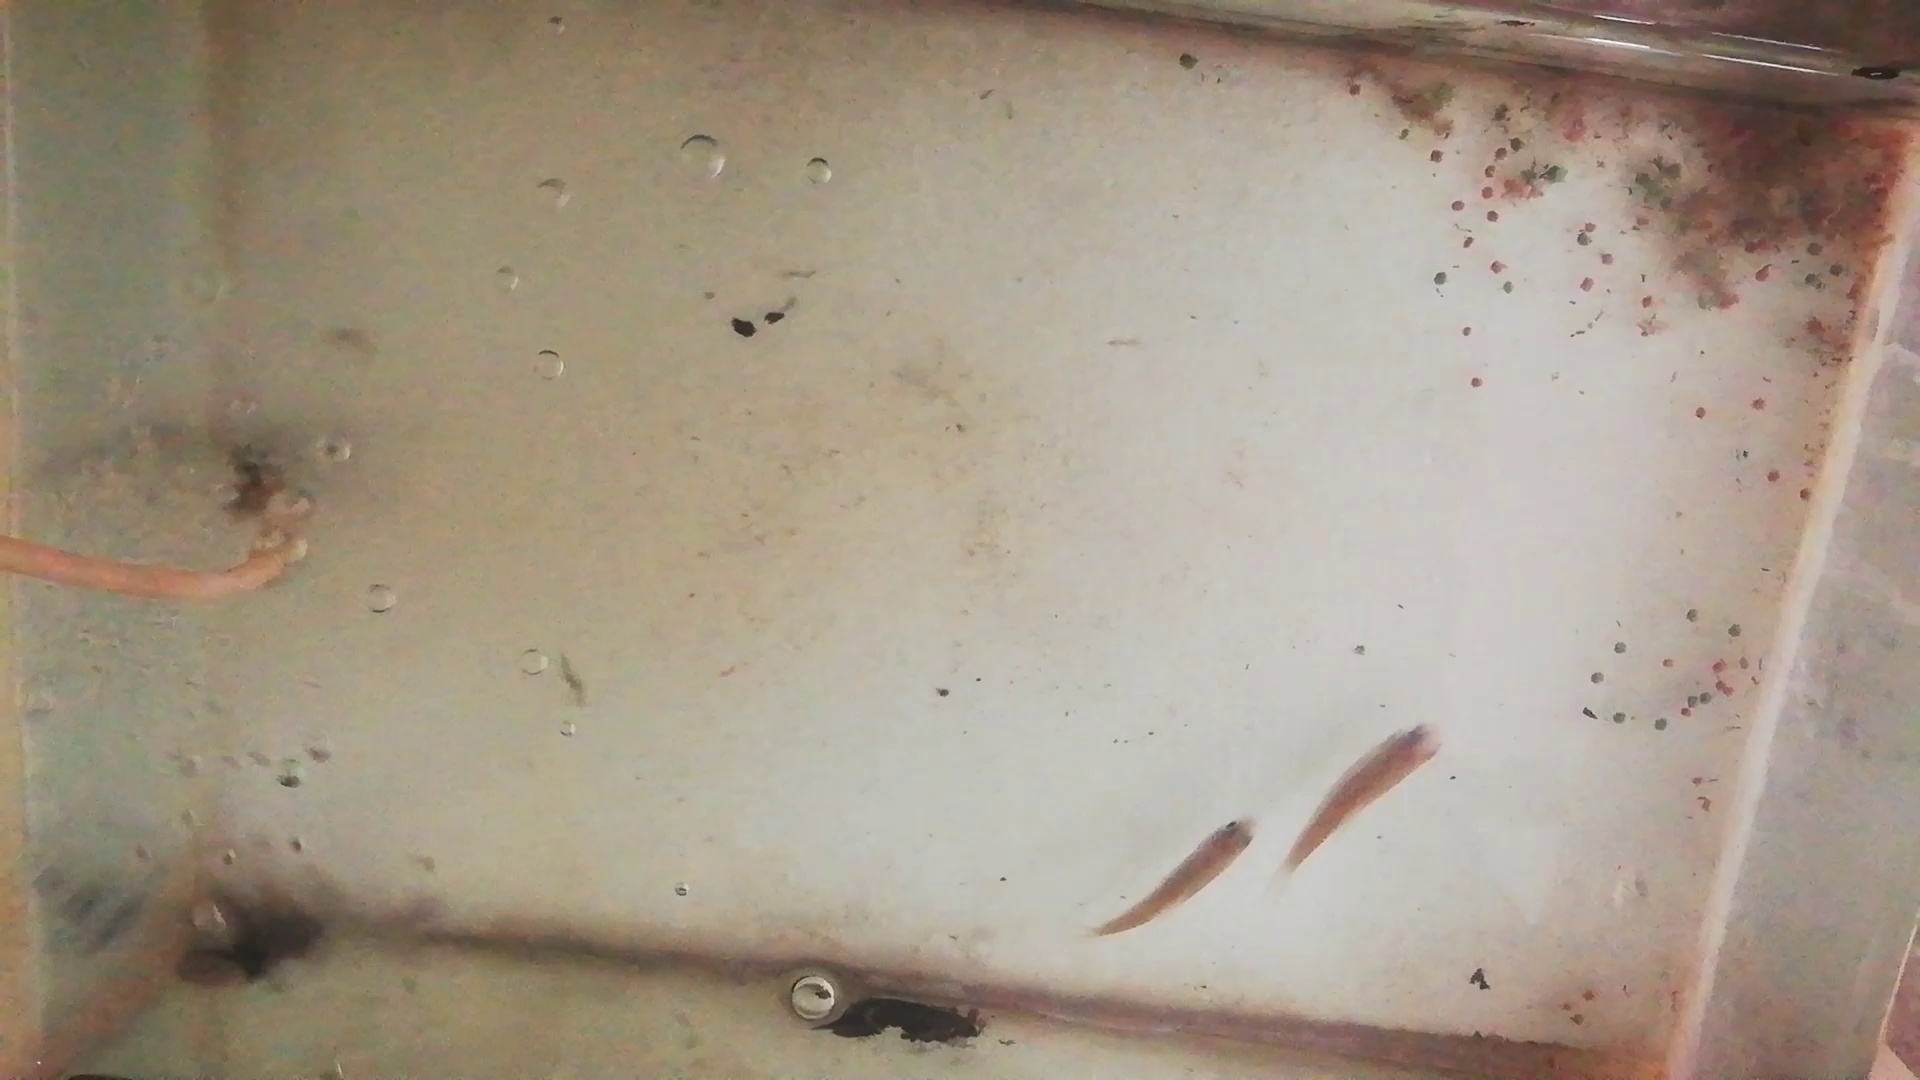fish: (1284, 723, 1444, 880), (1101, 811, 1261, 935)
